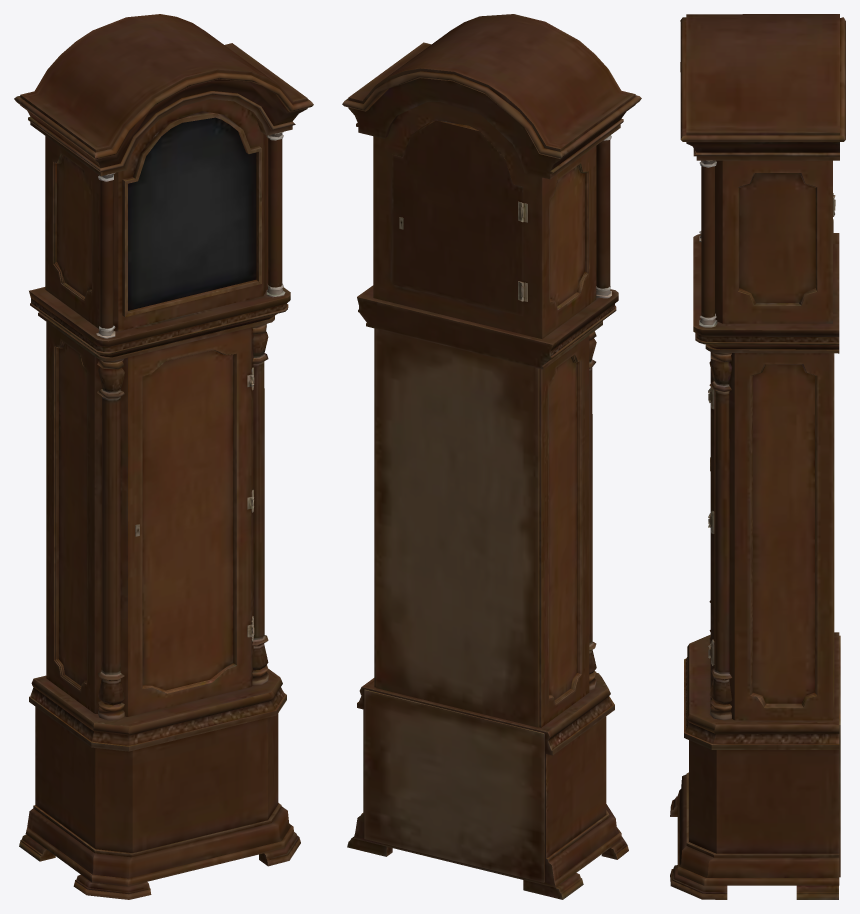
Rendered from vintage_grandfather_clock_01.glb.
3 renders of one model, left to right at view 1: azimuth 30°, elevation 25°; view 2: azimuth 150°, elevation 25°; view 3: azimuth 270°, elevation 25°, orthographic. The views are drawn at different scales.
Parts seen in each view (by area): view 1: vintage_grandfather_clock_01_Body; view 2: vintage_grandfather_clock_01_Body; view 3: vintage_grandfather_clock_01_Body.
Boxes of the visible parts, <box> form: vintage_grandfather_clock_01_Body: <box>14,14,313,899</box>; vintage_grandfather_clock_01_Body: <box>342,14,641,899</box>; vintage_grandfather_clock_01_Body: <box>670,14,845,899</box>.
Bounding box in the file's own units: 0.6255 × 2.19 × 0.4265.
Materials: 2 (2 with a texture image).
